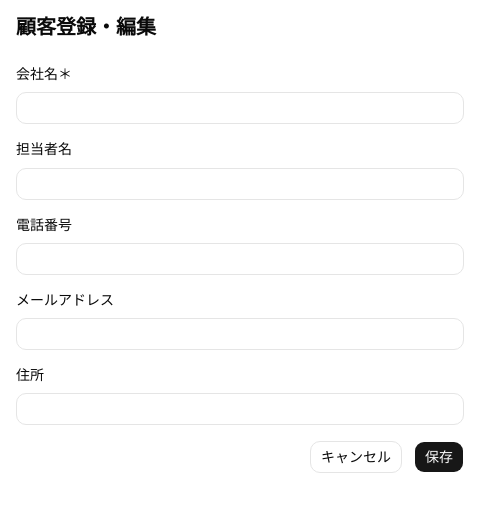
Scenario: CustomerForm (create mode) › rejects submission when the company name is empty (TC-SCR05-01)
This screenshot has width=484, height=529.
Step 1. Click the button "保存" → (439, 457), box [414,441,464,473]
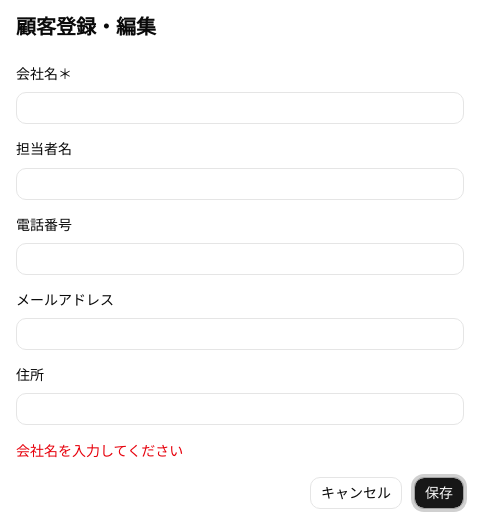
Check: the text "会社名を入力してください" is shown, box [16,442,183,460]
